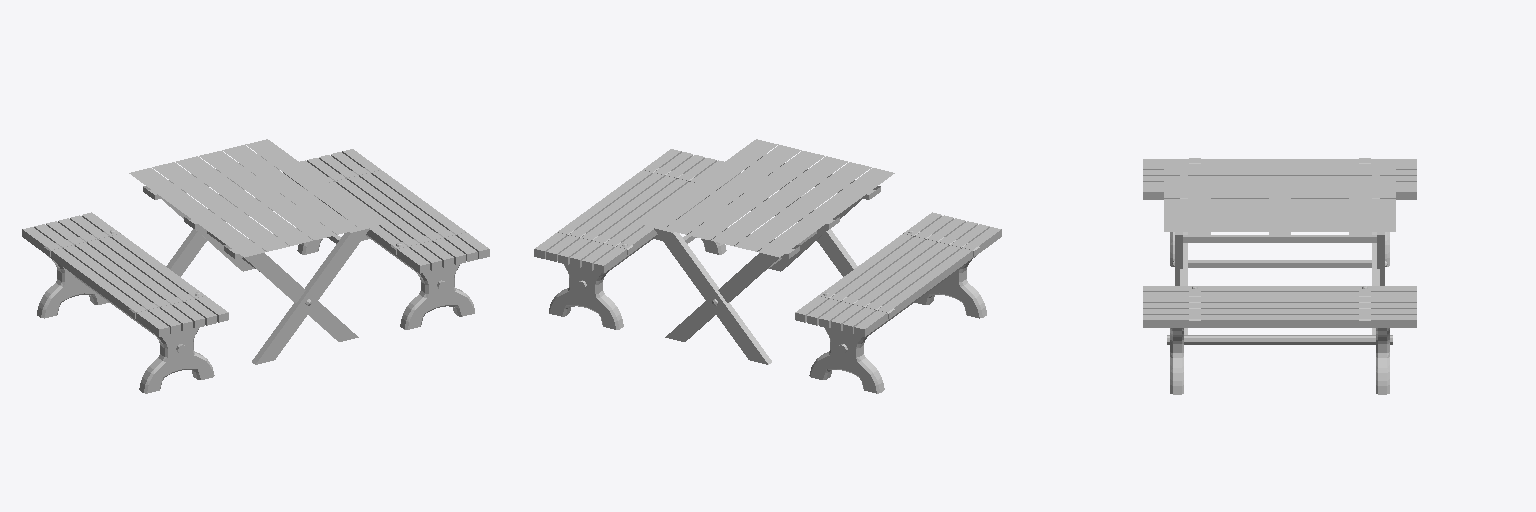
File: banca.obj
3 renders of one model, left to right at view 1: azimuth 30°, elevation 25°; view 2: azimuth 150°, elevation 25°; view 3: azimuth 270°, elevation 25°, orthographic.
Parts seen in each view (by area): view 1: bevel, off, table_legs__madera, table_legs__cafe, table_legs__metal; view 2: bevel, table_legs__madera, off, table_legs__cafe, table_legs__metal; view 3: table_legs__madera, bevel, off, table_legs__metal, table_legs__cafe.
Part boxes in pixels (left/top/right/bottom): bevel: left=22, top=149, right=489, bottom=336; off: left=37, top=139, right=474, bottom=393; table_legs__madera: left=131, top=140, right=382, bottom=276; table_legs__cafe: left=44, top=165, right=465, bottom=318; table_legs__metal: left=74, top=175, right=446, bottom=353; bevel: left=534, top=149, right=1001, bottom=336; table_legs__madera: left=641, top=139, right=894, bottom=364; off: left=549, top=140, right=986, bottom=393; table_legs__cafe: left=558, top=165, right=979, bottom=318; table_legs__metal: left=577, top=175, right=949, bottom=353; table_legs__madera: left=1164, top=164, right=1395, bottom=334; bevel: left=1143, top=159, right=1416, bottom=327; off: left=1164, top=164, right=1395, bottom=394; table_legs__metal: left=1167, top=198, right=1392, bottom=344; table_legs__cafe: left=1189, top=158, right=1370, bottom=325.
Bounding box in the file's own units: 2.8 × 0.9295 × 2.